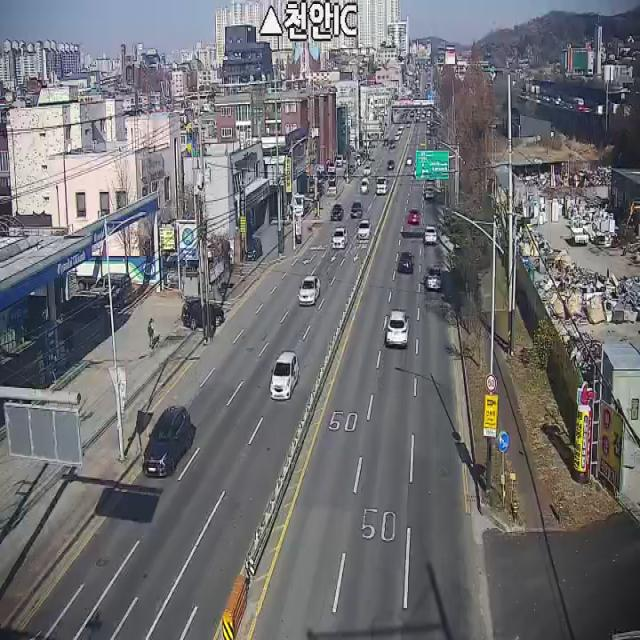Car: (142, 406, 192, 477), (89, 271, 133, 305), (270, 352, 300, 399), (182, 298, 223, 330), (386, 309, 409, 346), (298, 276, 321, 306), (424, 266, 442, 289), (357, 172, 371, 201), (246, 237, 262, 260), (398, 251, 414, 273), (331, 228, 347, 247), (423, 226, 437, 245), (358, 220, 372, 238), (331, 204, 344, 222), (408, 208, 421, 223), (351, 202, 363, 218), (328, 178, 338, 196), (425, 187, 434, 198), (388, 160, 394, 171)
Truck: (374, 167, 392, 203), (570, 219, 588, 244)
